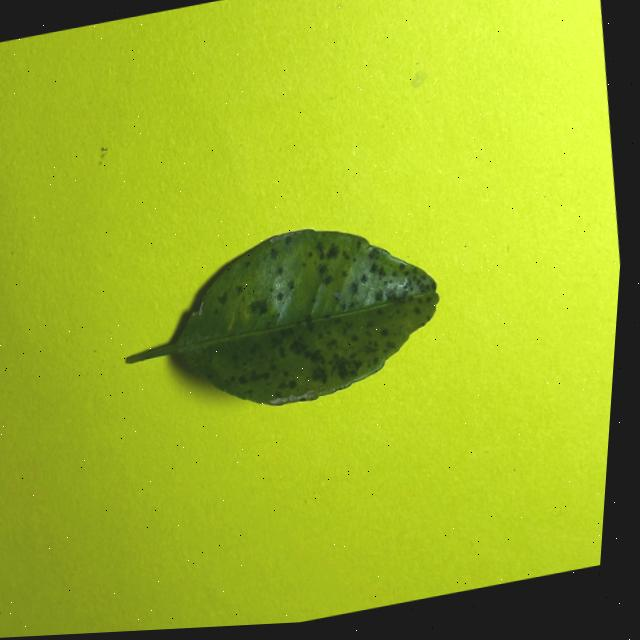sooty_mold: (126, 229, 439, 405)
